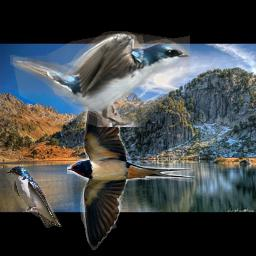Swallow: (67, 77, 195, 251), (10, 31, 190, 127), (6, 166, 62, 228)
